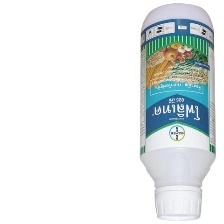insecticide: (137, 2, 216, 224)
